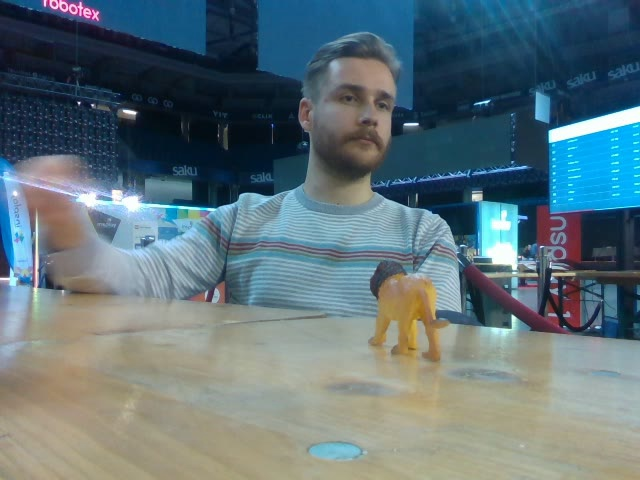toy: (365, 258, 460, 365)
